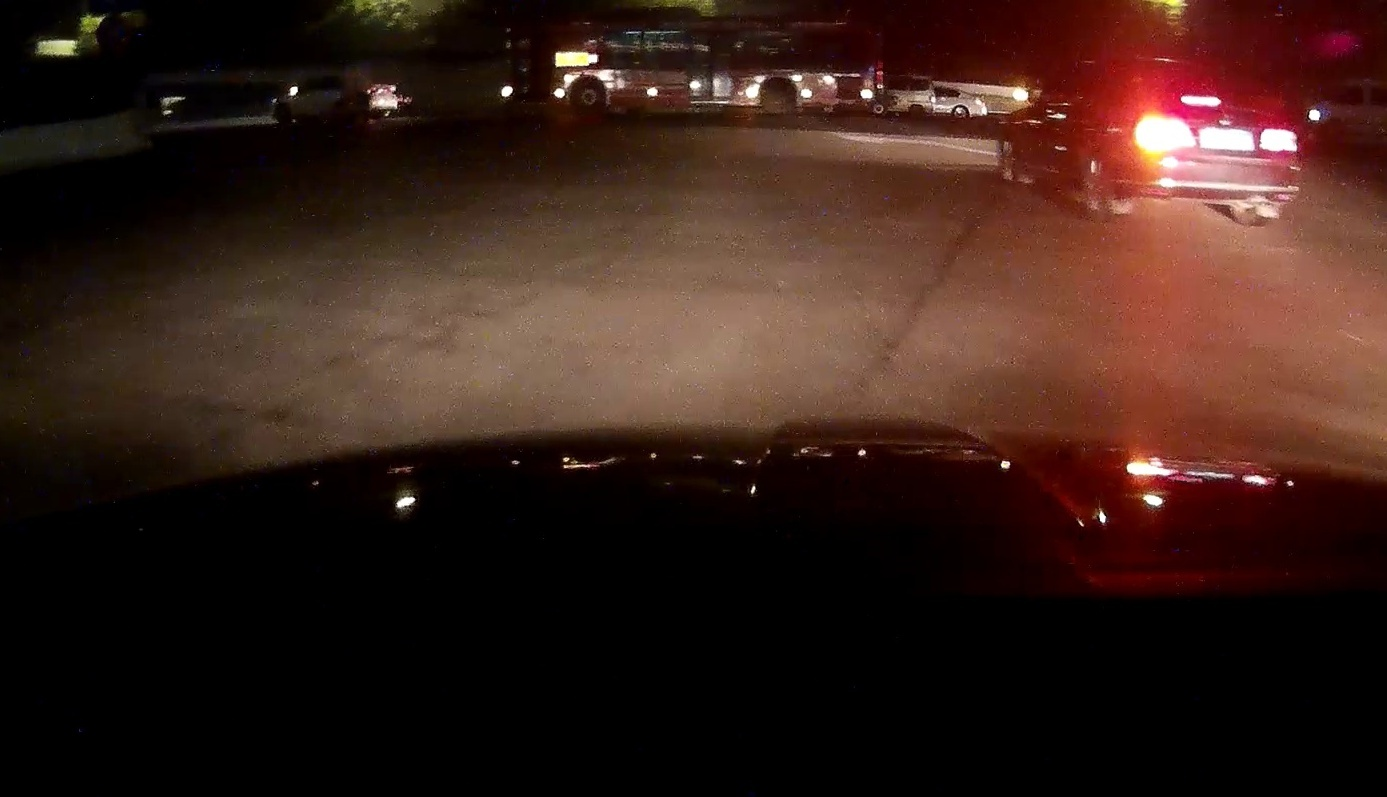L_light: (1135, 115, 1196, 153)
R_light: (1258, 127, 1298, 152)
T_light: (1179, 95, 1221, 106)
day-left: (1133, 58, 1301, 226)
